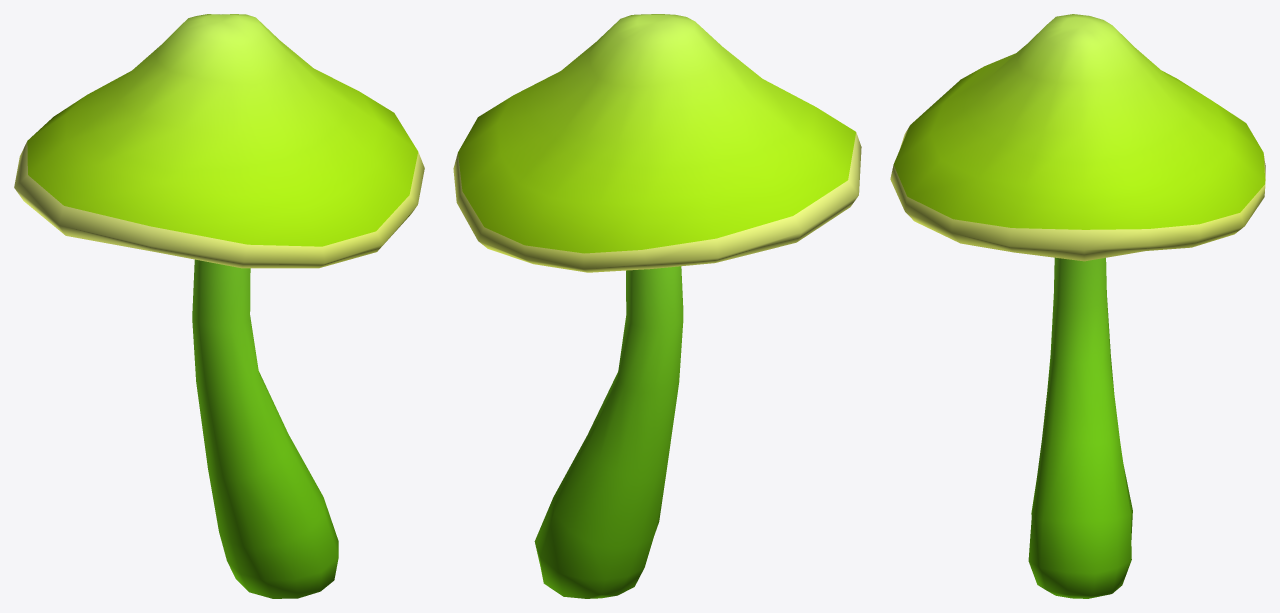
Rendered from Mushroom_0001_0008.fbx.
3 renders of one model, left to right at view 1: azimuth 30°, elevation 25°; view 2: azimuth 150°, elevation 25°; view 3: azimuth 270°, elevation 25°, orthographic. The views are drawn at different scales.
Visible parts, largest first — view 1: Mushroom_0001_0008; view 2: Mushroom_0001_0008; view 3: Mushroom_0001_0008.
Boxes of the visible parts, <box> form: Mushroom_0001_0008: <box>14,14,424,598</box>; Mushroom_0001_0008: <box>453,14,861,598</box>; Mushroom_0001_0008: <box>890,14,1265,598</box>.
Size of the model in its own units: 0.1385 by 0.2106 by 0.1341.
Materials: 1 (1 with a texture image).
